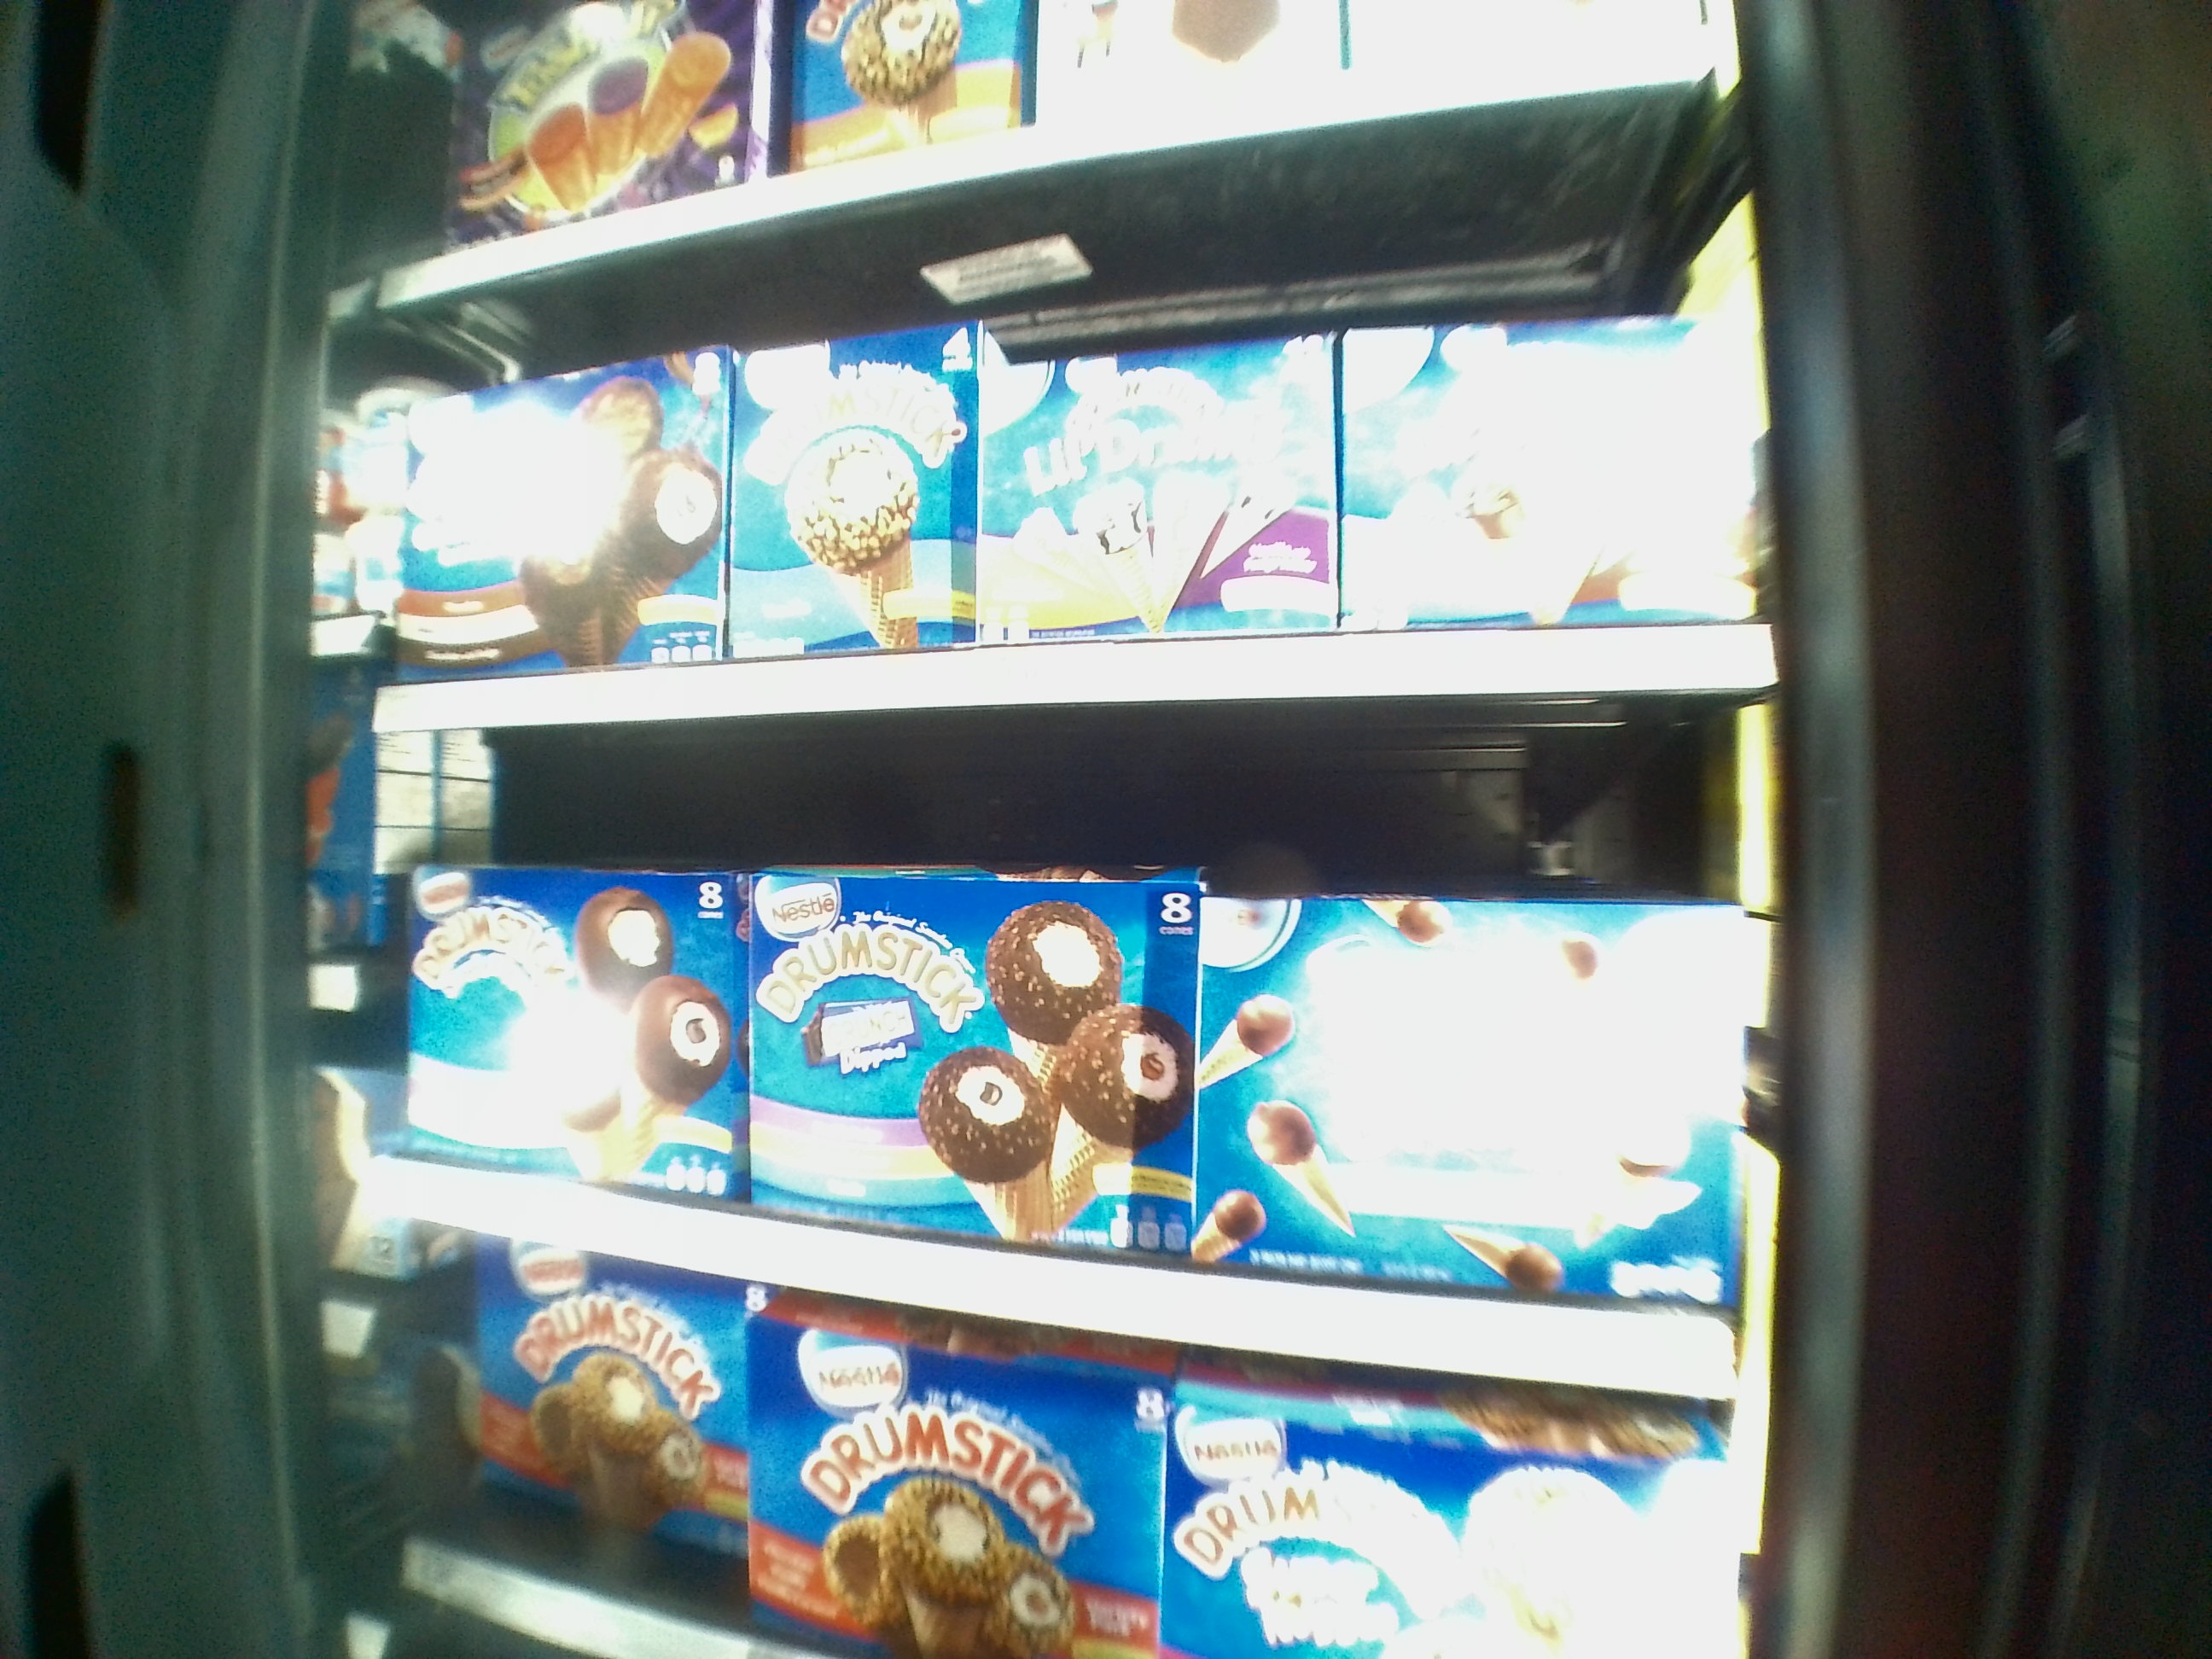shelf: (355, 701, 1761, 1314), (380, 171, 1770, 711)
